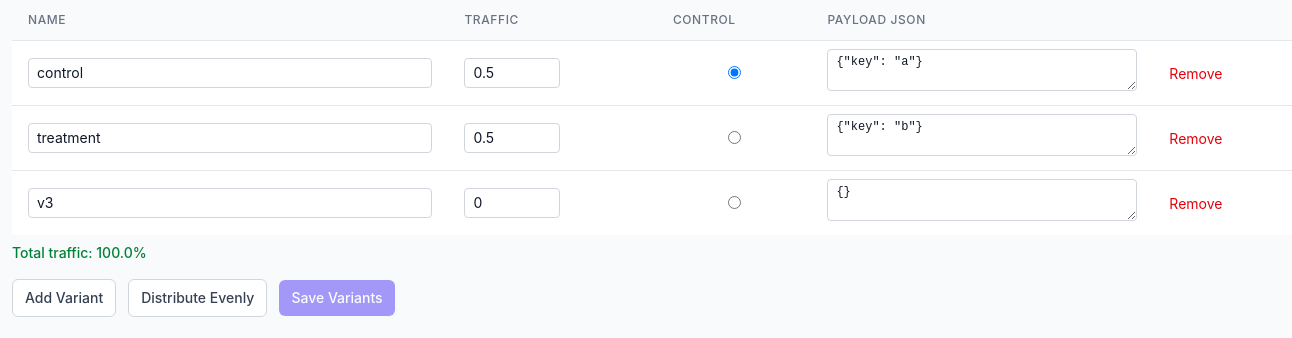
Test: VariantForm › distributes traffic evenly when "Distribute Evenly" is clicked
expect the text "Total traffic: 100.0%" is shown: met, box [12,244,147,261]
Click the button "Distribute Evenly". click: click(198, 298)
box: [128,279,267,317]
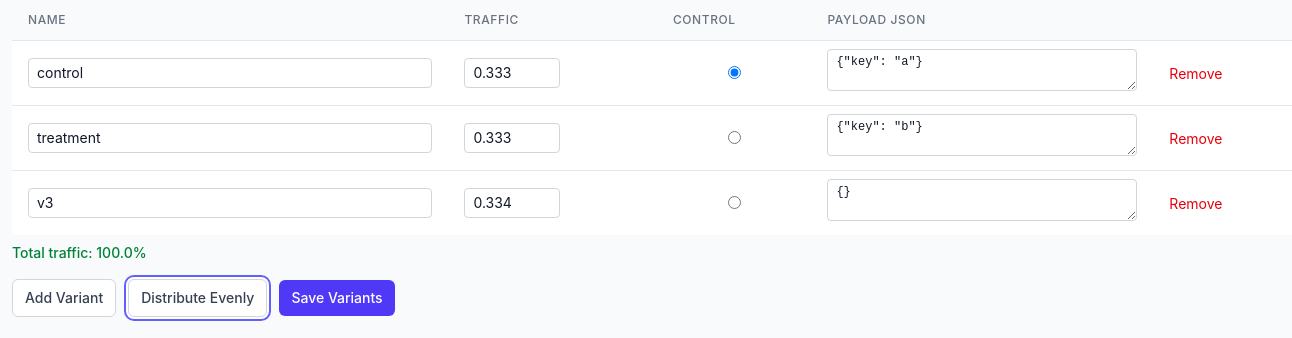
expect the text "Total traffic: 100.0%" is shown: met, box [12,244,147,261]
expect the number field named "traffic" holds "0.333": met, box [464,58,560,88]
expect the number field named "traffic" holds "0.334": met, box [464,188,560,218]
